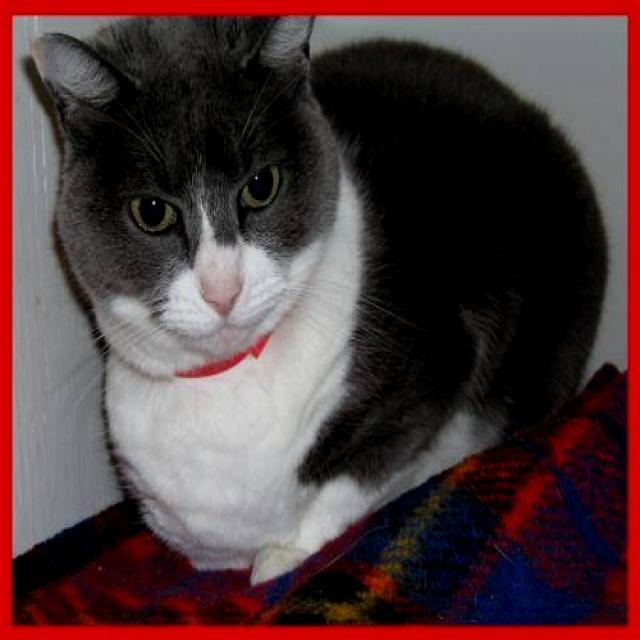Kucing: (9, 16, 596, 596)
